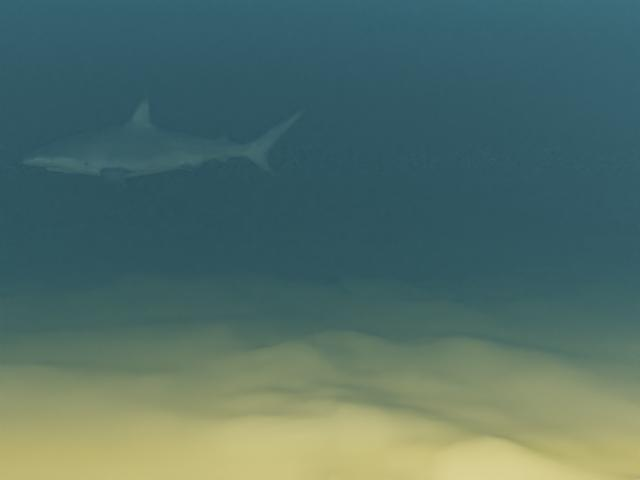Carribean Shark.001: (20, 96, 311, 187)
